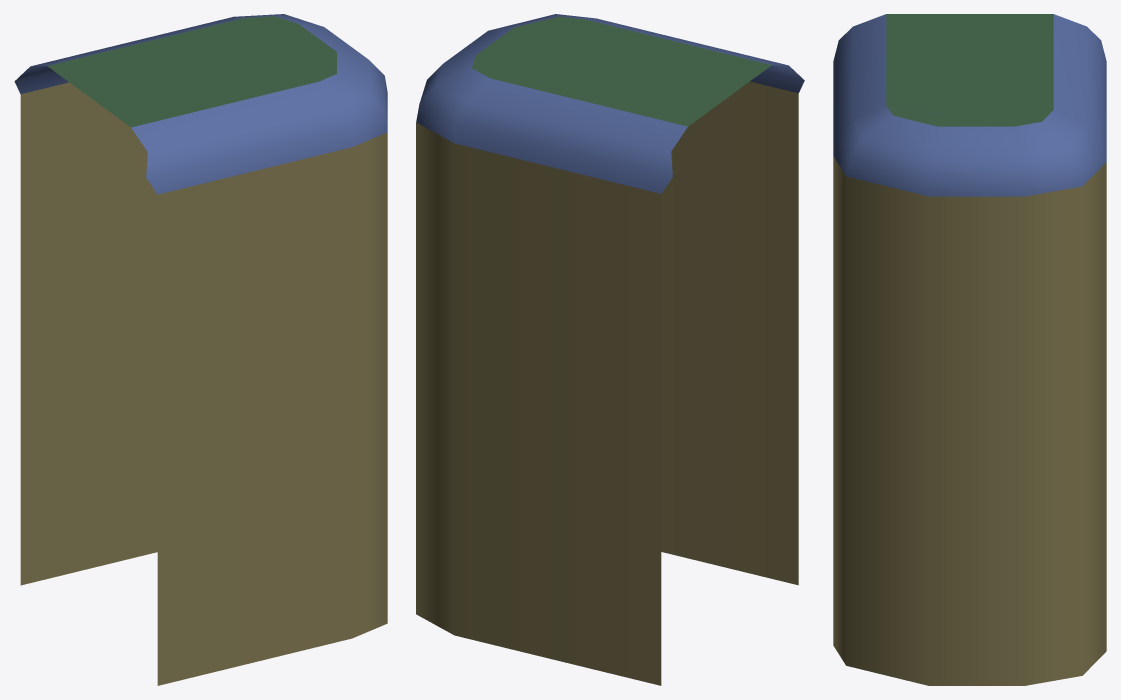
The model's file is Plat_secret_2.fbx.
3 views of the same model, side by side, from view 1: azimuth 30°, elevation 25°; view 2: azimuth 150°, elevation 25°; view 3: azimuth 270°, elevation 25° (orthographic).
Parts seen in each view (by area): view 1: Plat_secret_2, Wall8, Ground8; view 2: Plat_secret_2, Wall8, Ground8; view 3: Plat_secret_2, Wall8, Ground8.
Part boxes in pixels (left/top/right/bottom): Plat_secret_2: left=20, top=82, right=387, bottom=685; Wall8: left=14, top=14, right=387, bottom=194; Ground8: left=47, top=16, right=336, bottom=127; Plat_secret_2: left=416, top=81, right=798, bottom=685; Wall8: left=416, top=14, right=804, bottom=193; Ground8: left=472, top=16, right=771, bottom=126; Plat_secret_2: left=833, top=156, right=1106, bottom=685; Wall8: left=833, top=14, right=1106, bottom=196; Ground8: left=886, top=14, right=1053, bottom=126.
Size of the model in its own units: 2884 by 5183 by 2391.
